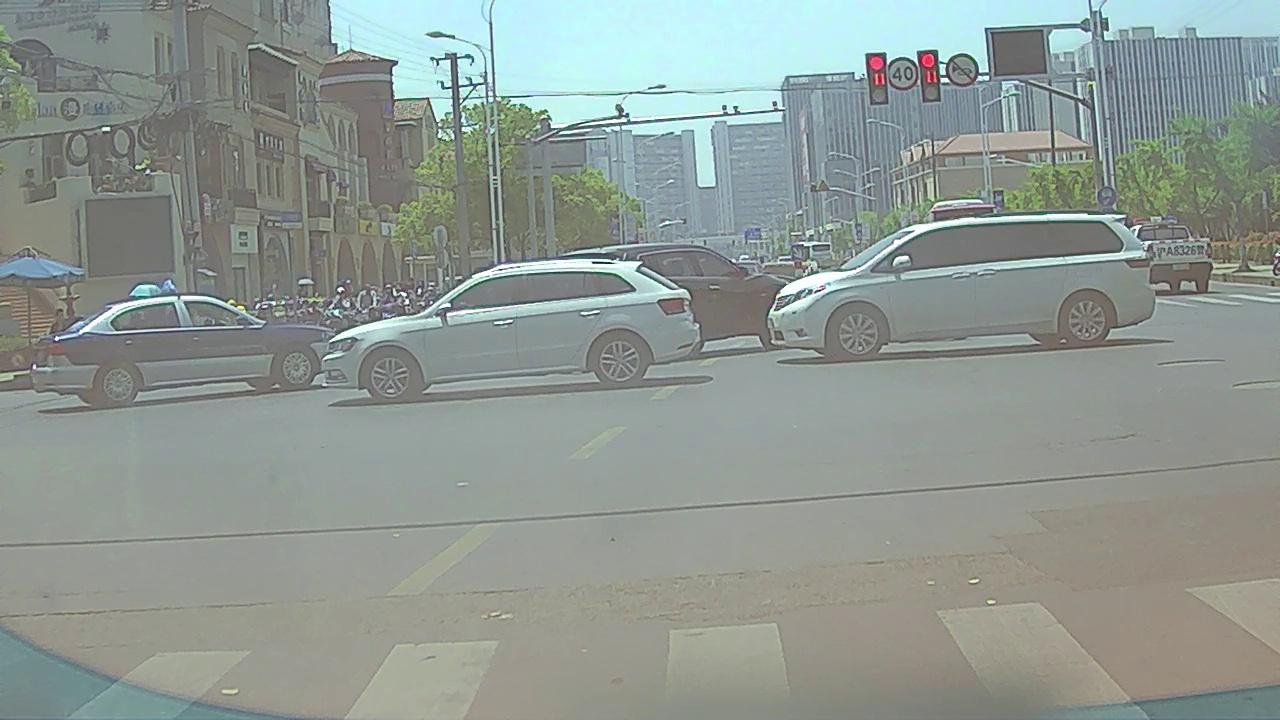traffic_light: (918, 49, 942, 104), (866, 53, 889, 105)
